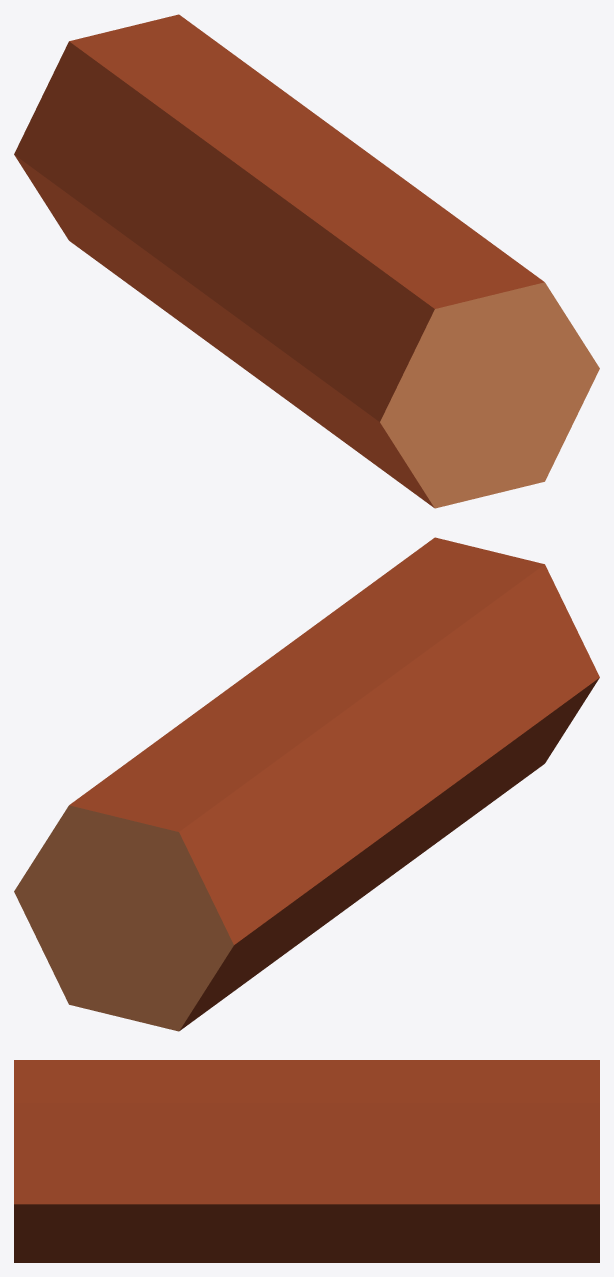
The model's file is grantre_stamme.fbx.
3 renders of one model, top to bottom at view 1: azimuth 30°, elevation 25°; view 2: azimuth 150°, elevation 25°; view 3: azimuth 270°, elevation 25°, orthographic. The views are drawn at different scales.
Visible parts, largest first — view 1: Cylinder; view 2: Cylinder; view 3: Cylinder.
Part boxes in pixels (x1,y1,x2,y2): Cylinder: (14,14,599,508); Cylinder: (14,537,599,1031); Cylinder: (14,1060,599,1262).
Size of the model in its own units: 100 by 86.6 by 288.
